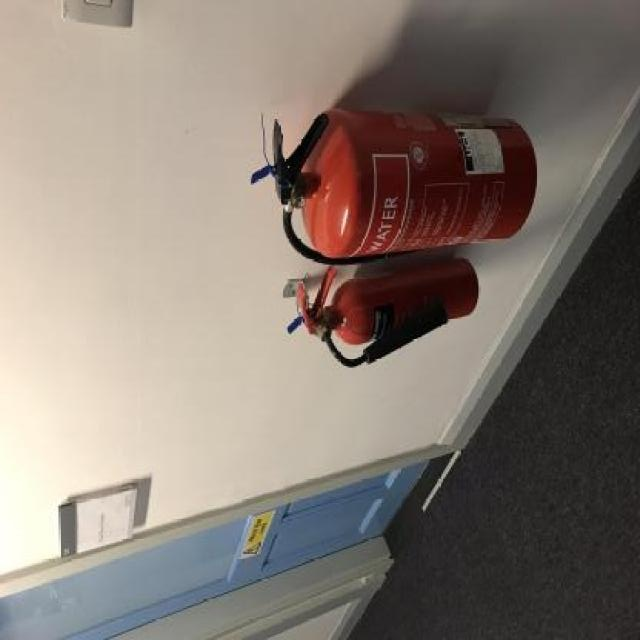fire extinguisher: (249, 108, 537, 266), (295, 256, 480, 367)
